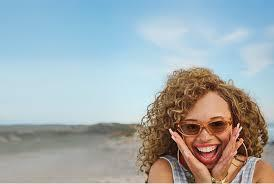sunglasses: (175, 115, 233, 138)
